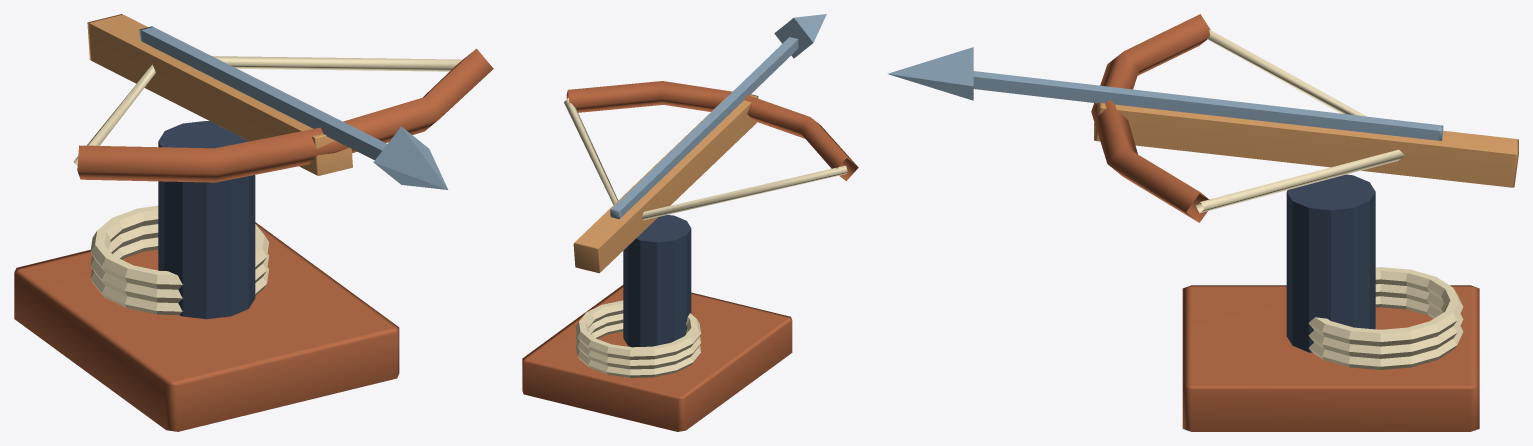
File: harpoon-launcher.glb
3 renders of one model, left to right at view 1: azimuth 30°, elevation 25°; view 2: azimuth 150°, elevation 25°; view 3: azimuth 270°, elevation 25°, orthographic. The views are drawn at different scales.
Parts seen in each view (by area): view 1: Launcher foot, Swivel pivot, Bow limbs, Launcher stock, Harpoon shaft, Bowstring, Tow rope.002, Harpoon head, Tow rope.001, Tow rope; view 2: Launcher foot, Swivel pivot, Launcher stock, Bow limbs, Harpoon shaft, Bowstring, Tow rope.002, Tow rope.001, Tow rope, Harpoon head; view 3: Launcher foot, Launcher stock, Swivel pivot, Harpoon shaft, Bow limbs, Tow rope.002, Bowstring, Tow rope.001, Tow rope, Harpoon head.
Part boxes in pixels (x1,y1,x2,y2): Launcher foot: (14, 222, 399, 431); Swivel pivot: (158, 121, 255, 319); Bow limbs: (77, 48, 493, 182); Launcher stock: (87, 14, 352, 175); Harpoon shaft: (139, 26, 387, 160); Bowstring: (73, 56, 462, 166); Tow rope.002: (90, 205, 269, 289); Harpoon head: (373, 126, 448, 189); Tow rope.001: (90, 224, 268, 302); Tow rope: (90, 237, 269, 315); Launcher foot: (522, 285, 792, 431); Swivel pivot: (623, 215, 691, 347); Launcher stock: (573, 90, 758, 273); Bow limbs: (566, 81, 858, 181); Harpoon shaft: (610, 37, 798, 219); Bowstring: (564, 98, 847, 220); Tow rope.002: (575, 300, 700, 359); Tow rope.001: (575, 313, 700, 369); Tow rope: (575, 323, 700, 377); Harpoon head: (774, 14, 826, 58); Launcher foot: (1182, 285, 1479, 431); Launcher stock: (1094, 103, 1518, 187); Swivel pivot: (1286, 174, 1375, 352); Harpoon shaft: (973, 71, 1443, 140); Bow limbs: (1091, 14, 1210, 222); Tow rope.002: (1308, 267, 1463, 346); Bowstring: (1196, 29, 1404, 213); Tow rope.001: (1308, 284, 1463, 358); Tow rope: (1308, 296, 1463, 369); Harpoon head: (887, 47, 973, 100).
Size of the model in its own units: 1.79 by 1.49 by 2.55.
